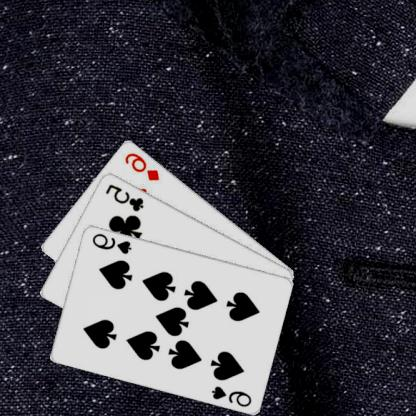5C: (104, 180, 147, 212)
6D: (124, 149, 162, 182)
9S: (91, 230, 135, 255), (211, 383, 254, 408)
